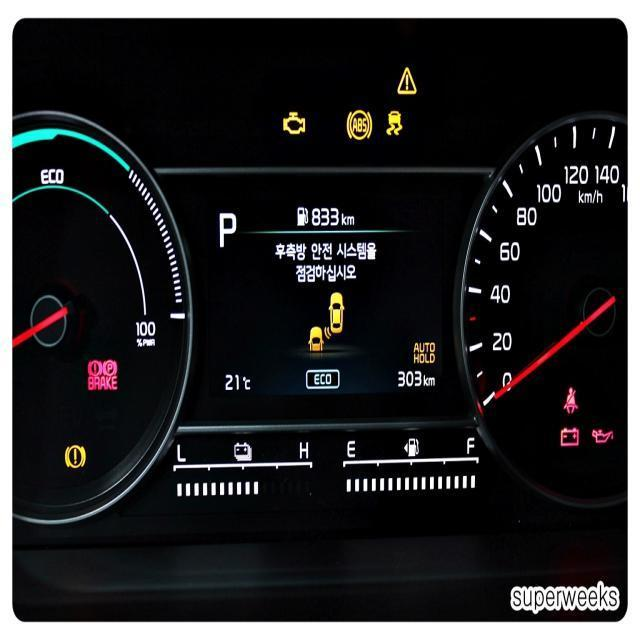Central Warning lamp: (396, 66, 416, 94)
